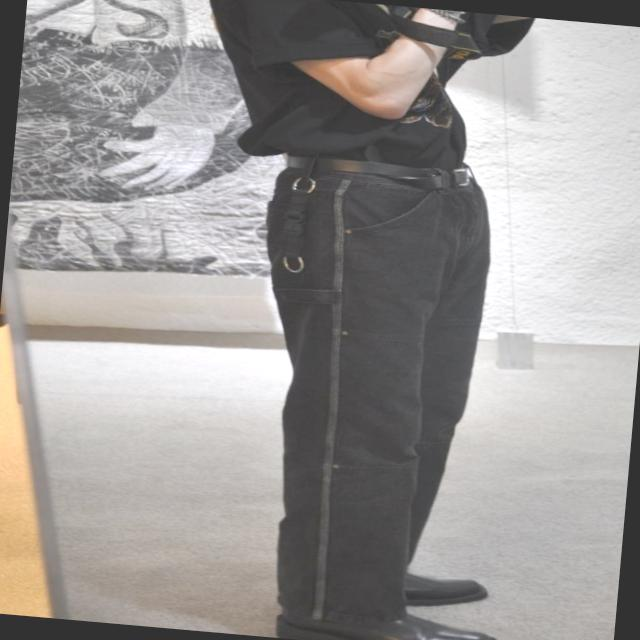cottonpants: (225, 154, 504, 638)
shortsleeve: (197, 0, 536, 174)
